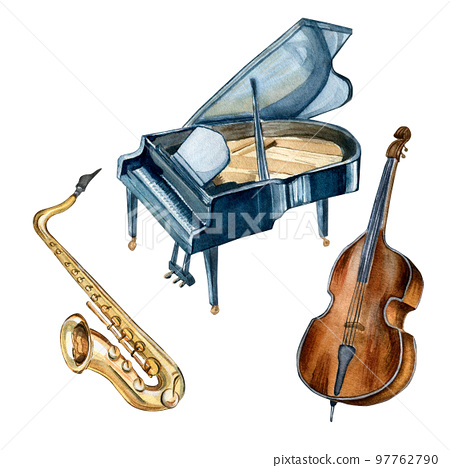Piano: (80, 18, 382, 322)
Saxophone: (11, 160, 203, 441)
